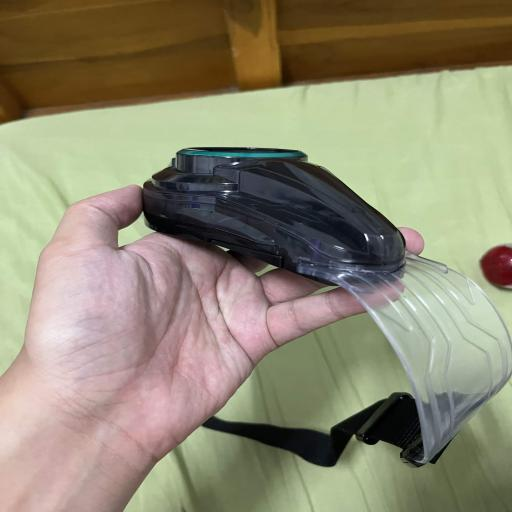zeztzdriver: (143, 147, 512, 467)
